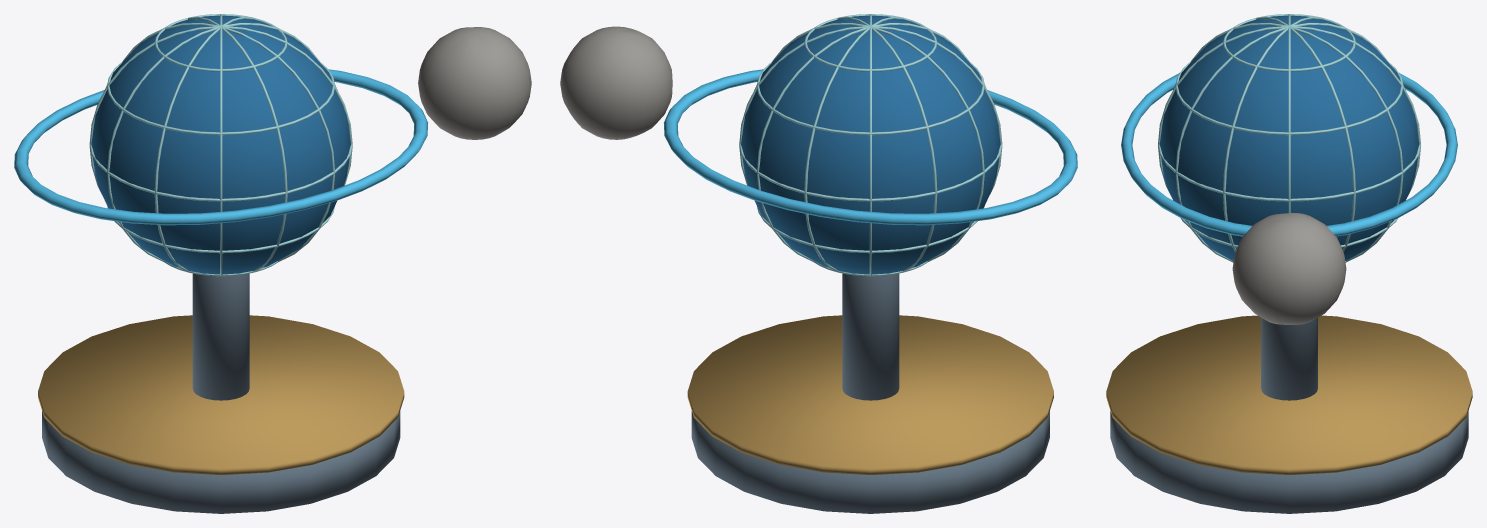
The model's file is earthsky-tides-v1-normal.glb.
3 renders of one model, left to right at view 1: azimuth 30°, elevation 25°; view 2: azimuth 150°, elevation 25°; view 3: azimuth 270°, elevation 25°, orthographic.
Visible parts, largest first — view 1: earth-ocean, brass-trim, weighted-base, moon, exaggerated-tide-outline, pedestal, longitude.005, longitude.004, longitude, latitude.003, latitude.002, longitude.003 (+4 smaller); view 2: earth-ocean, brass-trim, weighted-base, moon, exaggerated-tide-outline, pedestal, longitude.001, longitude.002, longitude, latitude.003, latitude.002, longitude.003 (+4 smaller); view 3: brass-trim, earth-ocean, weighted-base, moon, exaggerated-tide-outline, pedestal, longitude.003, longitude.002, longitude.004, latitude.003, latitude.002, longitude.001 (+3 smaller).
Boxes of the visible parts, box(x1,y1,x2,y2) form: earth-ocean: box(91, 15, 350, 274); brass-trim: box(38, 315, 404, 474); weighted-base: box(42, 411, 400, 513); moon: box(418, 27, 531, 139); exaggerated-tide-outline: box(14, 69, 427, 225); pedestal: box(192, 273, 249, 400); longitude.005: box(89, 26, 352, 194); longitude.004: box(123, 23, 335, 262); longitude: box(107, 23, 319, 261); latitude.003: box(107, 61, 335, 135); latitude.002: box(89, 144, 352, 201); longitude.003: box(188, 16, 287, 272); earth-ocean: box(741, 15, 1000, 274); brass-trim: box(687, 315, 1053, 474); weighted-base: box(691, 411, 1049, 513); moon: box(560, 26, 672, 139); exaggerated-tide-outline: box(664, 69, 1077, 225); pedestal: box(842, 273, 899, 400); longitude.001: box(739, 26, 1002, 194); longitude.002: box(756, 23, 968, 262); longitude: box(772, 23, 984, 261); latitude.003: box(756, 61, 984, 135); latitude.002: box(739, 144, 1002, 201); longitude.003: box(804, 16, 903, 272); brass-trim: box(1106, 315, 1472, 474); earth-ocean: box(1159, 15, 1419, 260); weighted-base: box(1110, 411, 1468, 513); moon: box(1232, 213, 1346, 324); exaggerated-tide-outline: box(1121, 73, 1457, 236); pedestal: box(1261, 317, 1317, 400); longitude.003: box(1158, 26, 1420, 194); longitude.002: box(1191, 23, 1403, 262); longitude.004: box(1175, 23, 1387, 262); latitude.003: box(1175, 61, 1403, 135); latitude.002: box(1158, 144, 1420, 201); longitude.001: box(1256, 16, 1355, 251).
Bounding box in the file's own units: 0.6991 × 0.5593 × 0.45.
